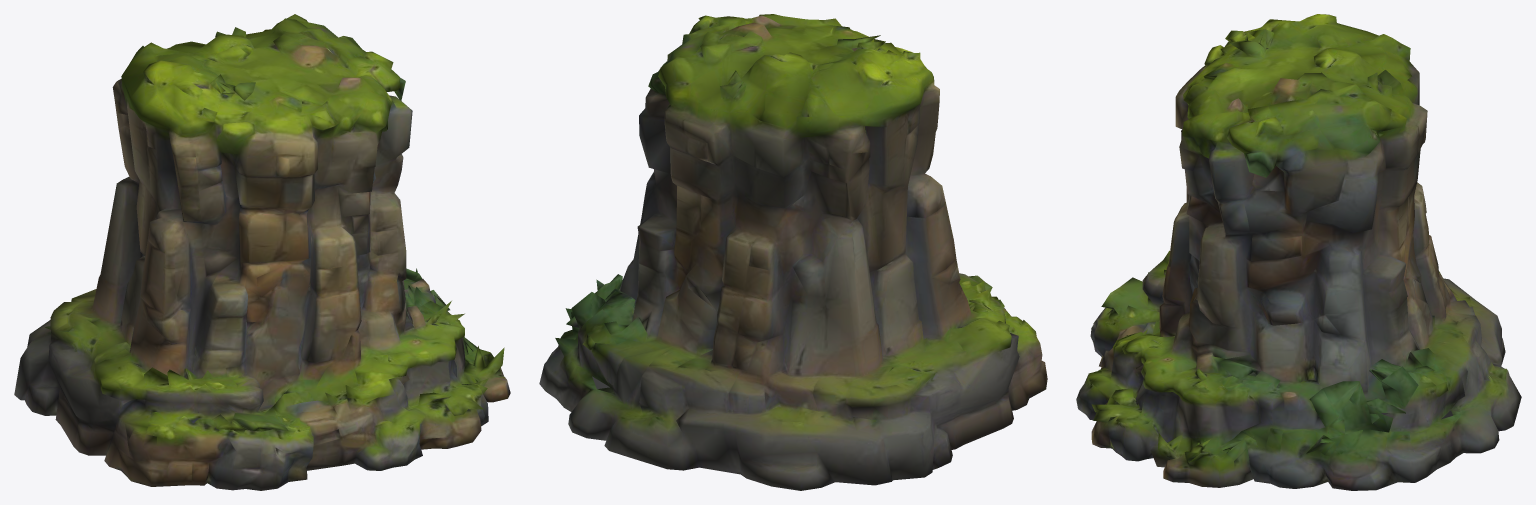
3 renders of one model, left to right at view 1: azimuth 30°, elevation 25°; view 2: azimuth 150°, elevation 25°; view 3: azimuth 270°, elevation 25°, orthographic. The views are drawn at different scales.
Parts seen in each view (by area): view 1: tripo_node_bec1c0d6-dd14-4237-8d2c-7f8bcfa50d3b; view 2: tripo_node_bec1c0d6-dd14-4237-8d2c-7f8bcfa50d3b; view 3: tripo_node_bec1c0d6-dd14-4237-8d2c-7f8bcfa50d3b.
Boxes of the visible parts, box(x1,y1,x2,y2) form: tripo_node_bec1c0d6-dd14-4237-8d2c-7f8bcfa50d3b: box(14, 14, 510, 490); tripo_node_bec1c0d6-dd14-4237-8d2c-7f8bcfa50d3b: box(539, 14, 1047, 490); tripo_node_bec1c0d6-dd14-4237-8d2c-7f8bcfa50d3b: box(1076, 14, 1521, 490).
Size of the model in its own units: 1 by 0.816 by 0.9726.
1 material, 1 textured.
